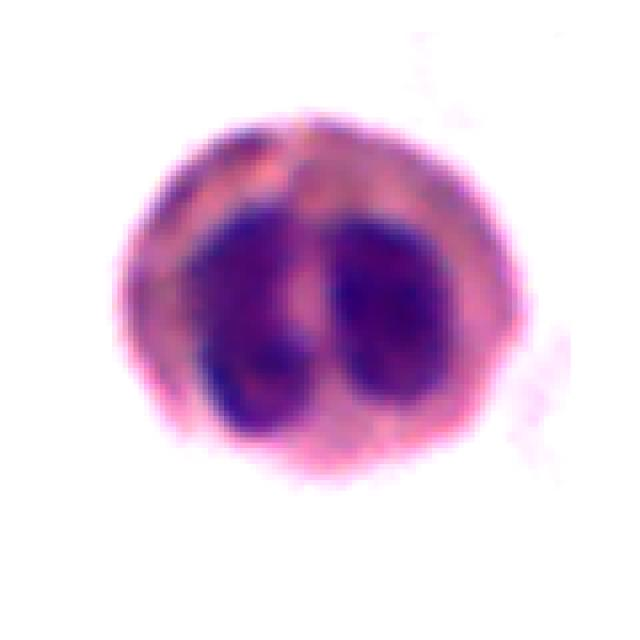WBC: (91, 102, 560, 481)
